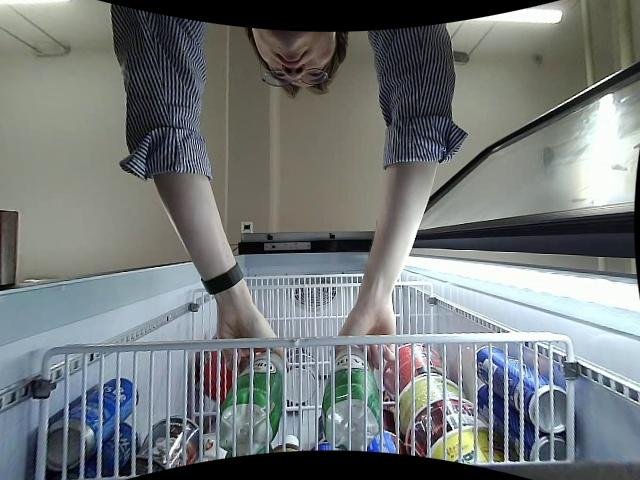00_hand: (334, 306, 397, 370), (218, 309, 285, 366)
18_trevi: (219, 348, 283, 455), (321, 349, 382, 449)
